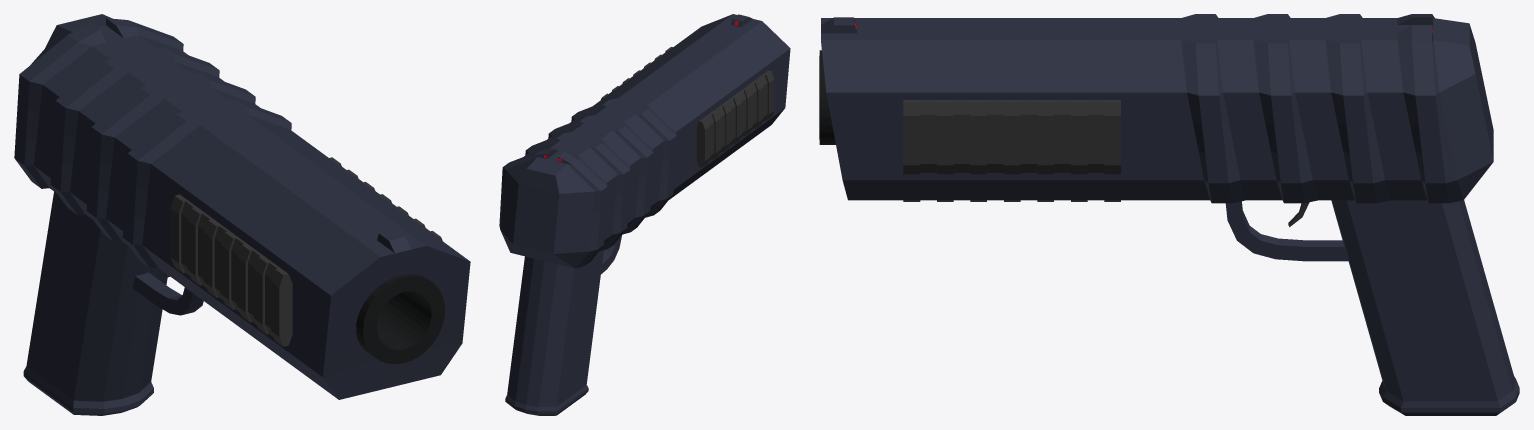
Rendered from Pistol.glb.
3 renders of one model, left to right at view 1: azimuth 30°, elevation 25°; view 2: azimuth 150°, elevation 25°; view 3: azimuth 270°, elevation 25°, orthographic. The views are drawn at different scales.
Visible parts, largest first — view 1: Pistol-col; view 2: Pistol-col; view 3: Pistol-col.
Boxes of the visible parts, x1=… form: Pistol-col: x1=14, y1=14, x2=470, y2=415; Pistol-col: x1=499, y1=14, x2=790, y2=415; Pistol-col: x1=819, y1=14, x2=1519, y2=415.
Bounding box in the file's own units: 0.2429 × 0.5251 × 0.8863.
Materials: 1 (1 with a texture image).
